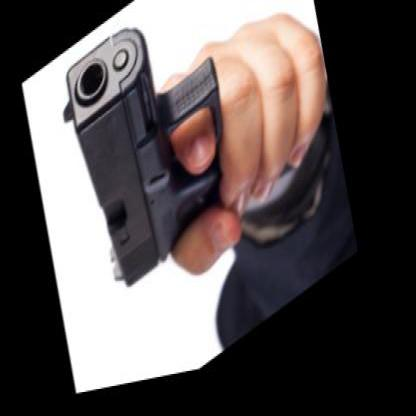pistol: (34, 0, 318, 330)
